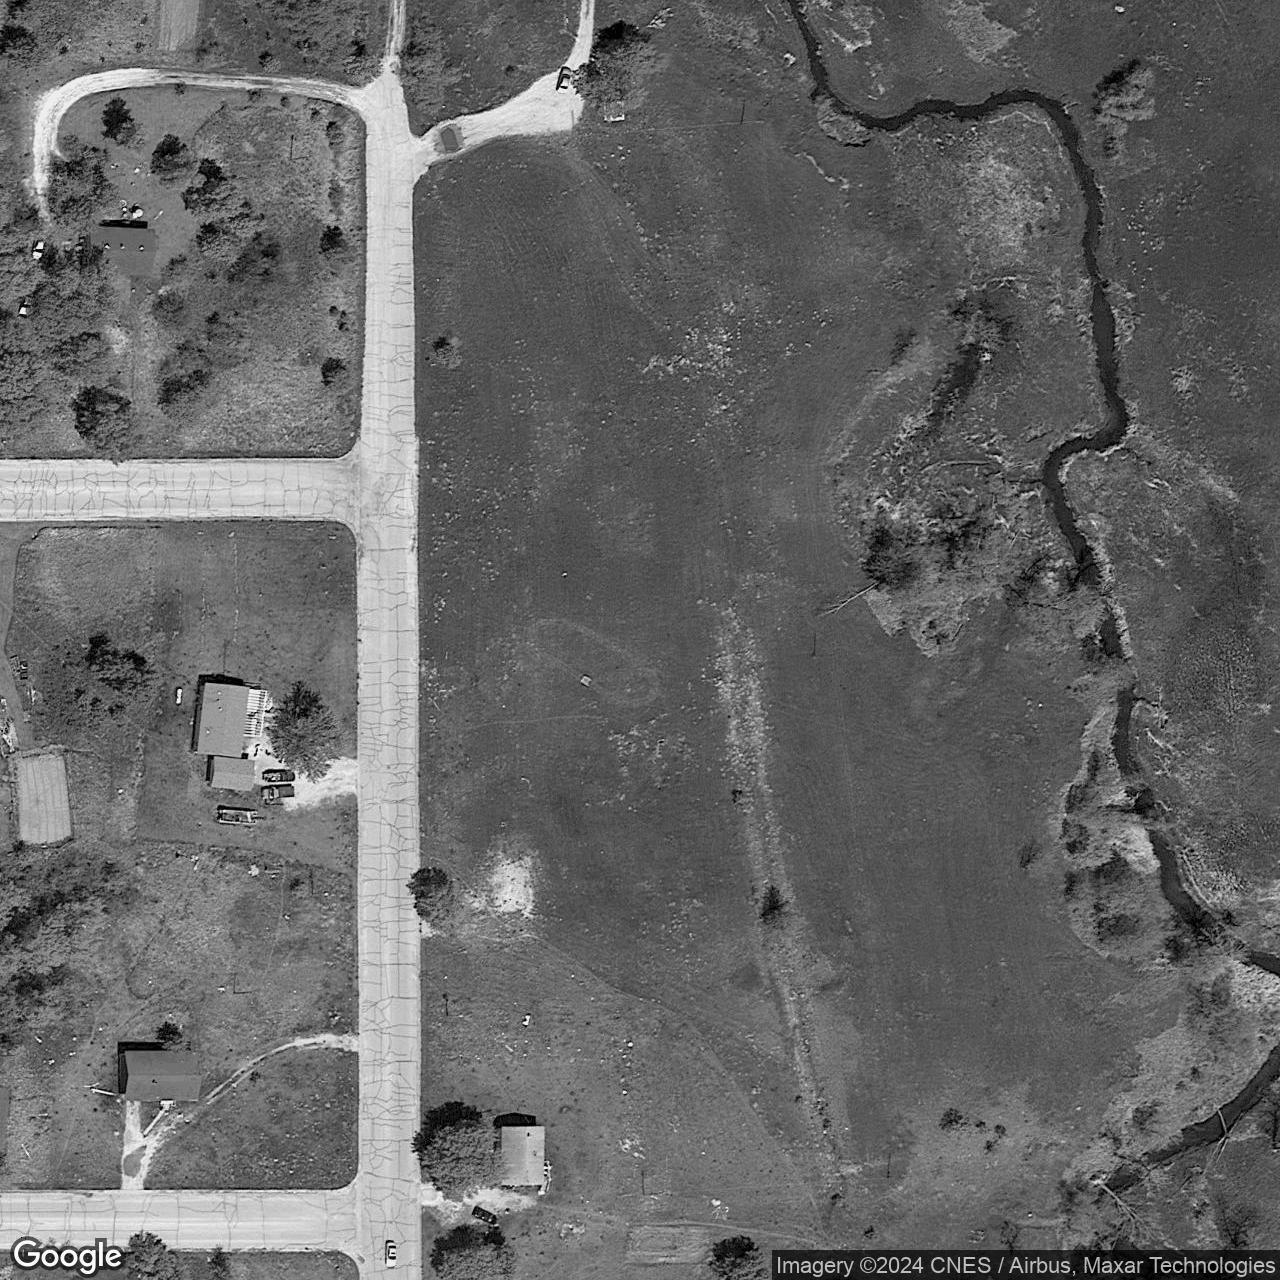Garage: (212, 757, 256, 790)
House: (192, 682, 252, 760), (118, 1051, 203, 1104), (89, 224, 157, 279), (498, 1126, 546, 1187)
Propane: (173, 686, 184, 707)
